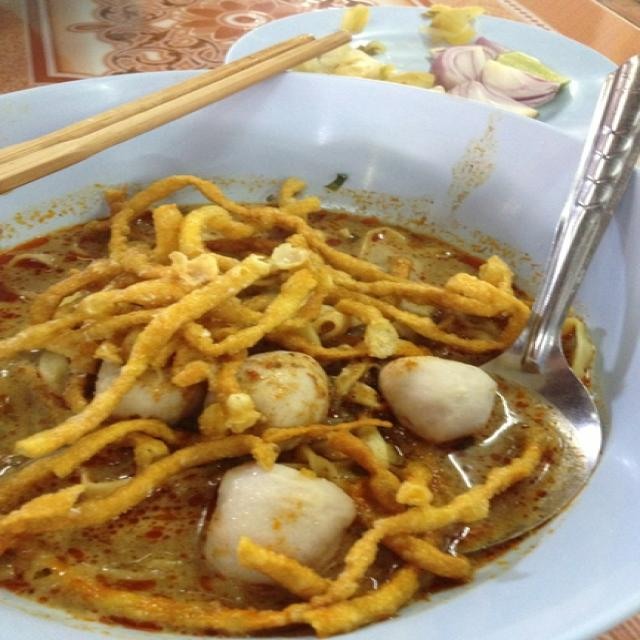面条主食: (18, 101, 604, 626)
